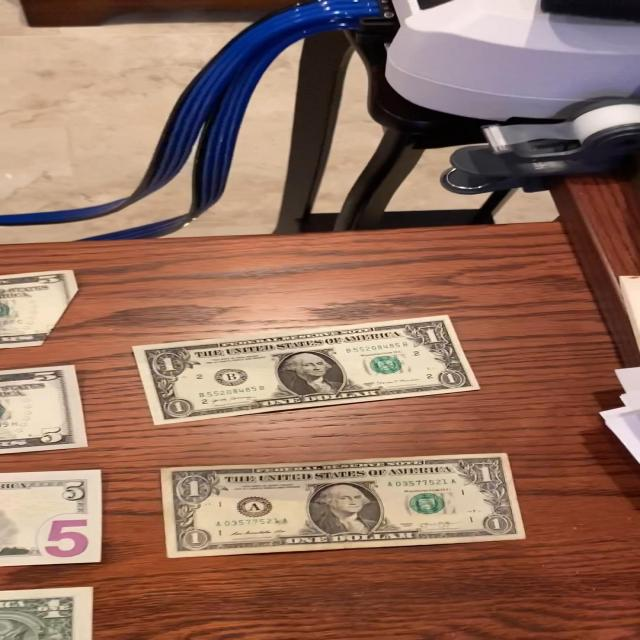1-Front: (131, 313, 493, 430), (147, 448, 534, 549)
5-Back: (0, 462, 123, 576)
5-Front: (0, 359, 95, 458), (0, 262, 87, 351)
